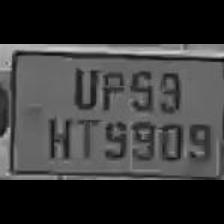0: (155, 118, 183, 162)
8: (155, 65, 183, 113)
9: (125, 64, 156, 112), (98, 116, 128, 162), (128, 116, 156, 162), (184, 119, 211, 162)
H: (42, 112, 72, 162)
P: (98, 65, 124, 111)
T: (70, 115, 98, 161)
U: (66, 62, 100, 110)
